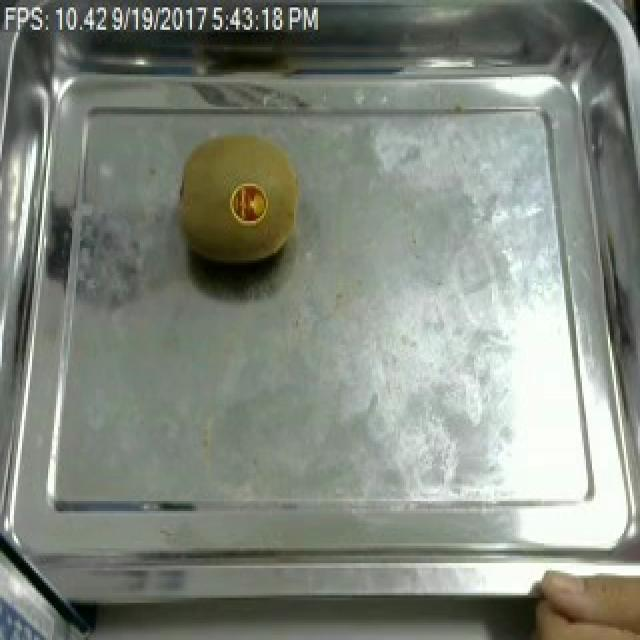Fruit: (170, 121, 310, 273), (516, 550, 640, 640)
